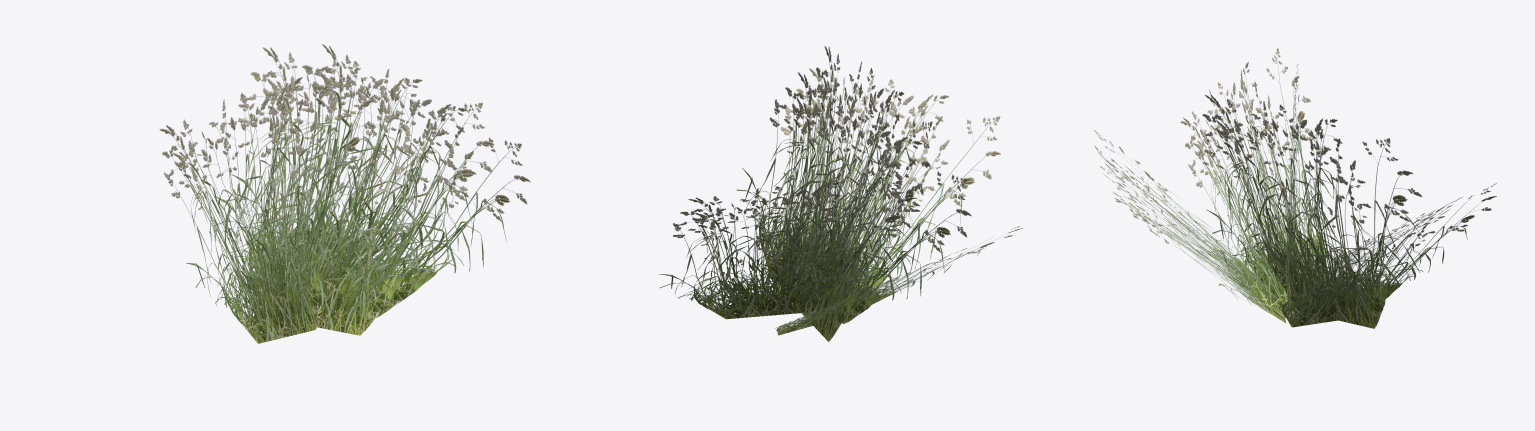
The model's file is bush_1.glb.
3 renders of one model, left to right at view 1: azimuth 30°, elevation 25°; view 2: azimuth 150°, elevation 25°; view 3: azimuth 270°, elevation 25°, orthographic. The views are drawn at different scales.
Parts seen in each view (by area): view 1: Shrub1; view 2: Shrub1; view 3: Shrub1.
Boxes of the visible parts, box(x1,y1,x2,y2) form: Shrub1: box(159, 44, 530, 343); Shrub1: box(659, 46, 1023, 341); Shrub1: box(1093, 48, 1496, 328).
Bounding box in the file's own units: 3.56 × 2.5 × 3.4.
Materials: 1 (1 with a texture image).
